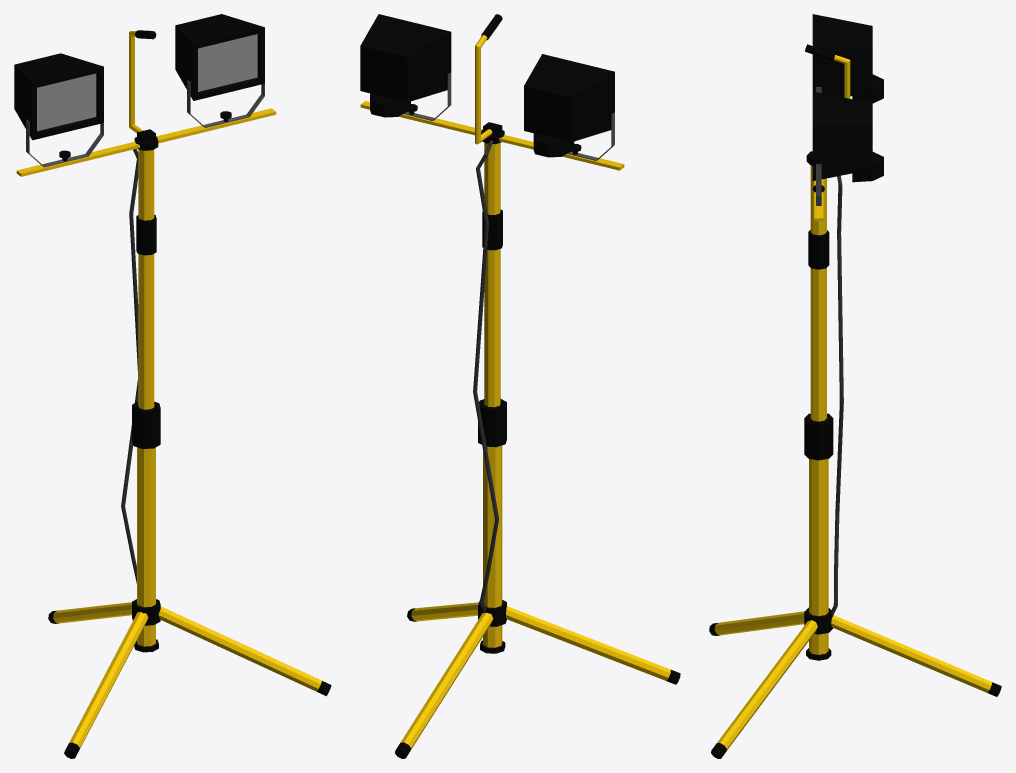
The model's file is Projecteur_B.FBX.
The picture shows the model from 3 angles, left to right: view 1: azimuth 30°, elevation 25°; view 2: azimuth 150°, elevation 25°; view 3: azimuth 270°, elevation 25°; orthographic projection. The views are drawn at different scales.
Visible parts, largest first — view 1: Top001, Cylinder022, Box010, Box012, Verre001, Verre007, Cylinder026, Cylinder027, cable, Cylinder028, Line025, Line026; view 2: Box012, Box010, Top001, Cylinder022, Cylinder027, Cylinder028, cable, Line025, Cylinder026; view 3: Cylinder022, Box012, Box010, Top001, Cylinder028, Cylinder026, cable, Cylinder027, Line025.
Boxes of the visible parts, left/top/right/bottom form: Top001: left=16, top=108, right=276, bottom=409; Cylinder022: left=132, top=401, right=160, bottom=652; Box010: left=14, top=53, right=103, bottom=140; Box012: left=175, top=14, right=264, bottom=100; Verre001: left=37, top=73, right=96, bottom=131; Verre007: left=198, top=34, right=257, bottom=91; Cylinder026: left=158, top=606, right=331, bottom=696; Cylinder027: left=64, top=612, right=148, bottom=758; cable: left=121, top=149, right=138, bottom=583; Cylinder028: left=48, top=602, right=131, bottom=623; Line025: left=129, top=30, right=156, bottom=133; Line026: left=187, top=79, right=264, bottom=127; Box012: left=360, top=14, right=451, bottom=117; Box010: left=524, top=54, right=614, bottom=157; Top001: left=360, top=101, right=624, bottom=407; Cylinder022: left=478, top=399, right=506, bottom=653; Cylinder027: left=506, top=606, right=680, bottom=684; Cylinder028: left=395, top=612, right=493, bottom=758; cable: left=473, top=140, right=498, bottom=612; Line025: left=475, top=14, right=502, bottom=144; Cylinder026: left=407, top=602, right=478, bottom=621; Cylinder022: left=804, top=413, right=833, bottom=660; Box012: left=812, top=91, right=883, bottom=182; Box010: left=812, top=14, right=883, bottom=103; Top001: left=806, top=151, right=829, bottom=421; Cylinder028: left=831, top=615, right=1001, bottom=696; Cylinder026: left=711, top=620, right=817, bottom=758; cable: left=830, top=175, right=843, bottom=616; Cylinder027: left=709, top=611, right=804, bottom=635; Line025: left=805, top=44, right=850, bottom=98.
Bounding box in the file's own units: 74.66 × 177 × 71.91.
Materials: 2 (1 with a texture image).
